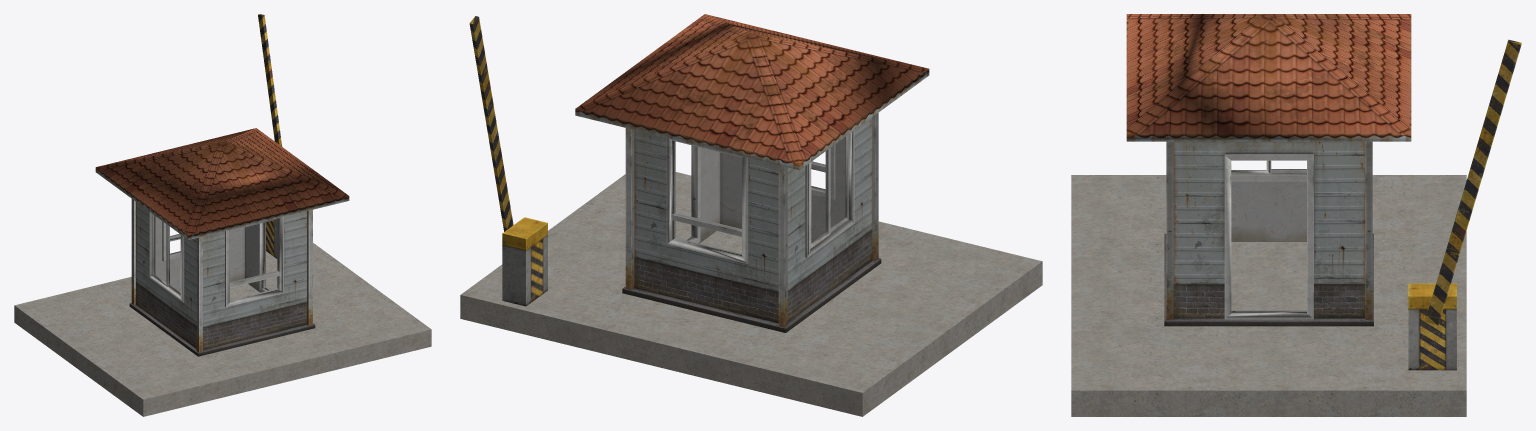
Rendered from Building_Mws01.glb.
3 views of the same model, side by side, from view 1: azimuth 30°, elevation 25°; view 2: azimuth 150°, elevation 25°; view 3: azimuth 270°, elevation 25° (orthographic). The views are drawn at different scales.
Parts seen in each view (by area): view 1: xiutz_mws_01_0; view 2: xiutz_mws_01_0; view 3: xiutz_mws_01_0.
Boxes of the visible parts, box(x1,y1,x2,y2) form: xiutz_mws_01_0: box(14, 14, 431, 416); xiutz_mws_01_0: box(460, 14, 1042, 416); xiutz_mws_01_0: box(1071, 14, 1521, 416).
Bounding box in the file's own units: 9.48 × 7.33 × 8.36.
2 materials, 2 textured.
